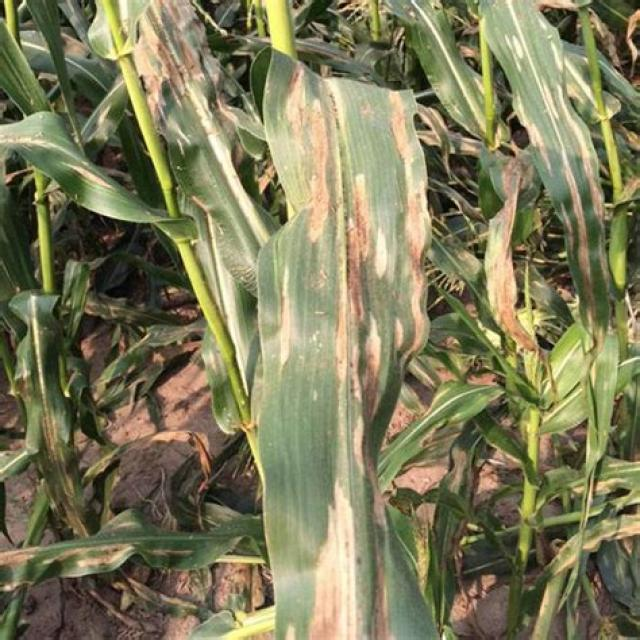blight: (305, 123, 391, 400), (301, 490, 371, 640)
